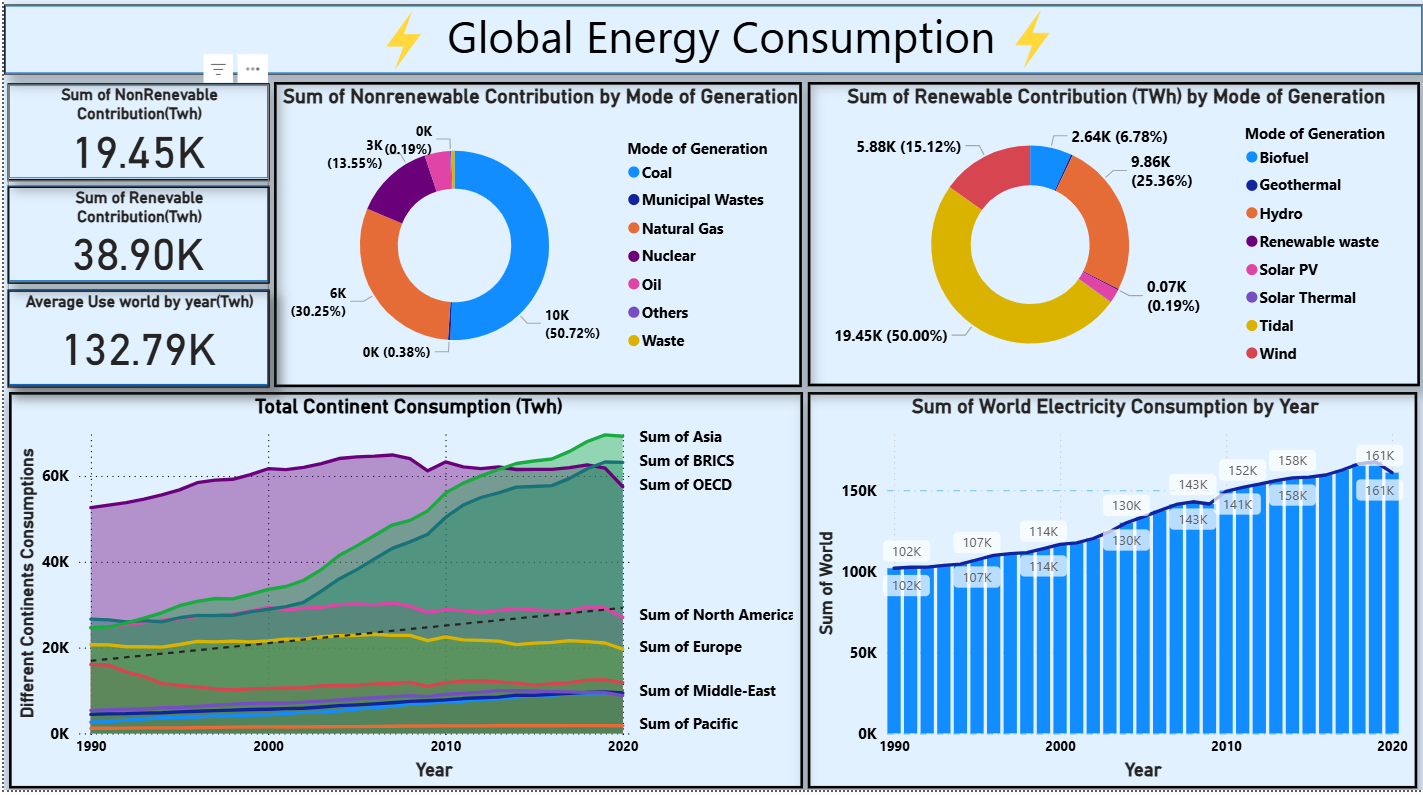

This screenshot's page, from the dashboard's own definition file:
{"tool":"powerbi","page":{"name":"Global Dashboard","canvas":[1280,720],"ordinal":0},"visuals":[{"type":"shape","box":[0,11.2,1280,63.4],"z":0},{"type":"group","id":"g1","title":"Group 5","box":[3.1,82,236,88.9],"z":0,"group":"g4"},{"type":"shape","box":[3.1,82,236,87],"z":0,"group":"g1"},{"type":"shape","box":[3.1,174.7,236,87.4],"z":0,"group":"g2"},{"type":"shape","box":[3.1,268.2,236,87.4],"z":0,"group":"g3"},{"type":"card","title":"Sum of NonRenevable Contribution(Twh)","fields":{"Values":["nonRenewablesTotalPowerGeneration.sum of Contribution"]},"box":[3.1,83.5,236,87.4],"z":1000,"group":"g1"},{"type":"group","id":"g2","title":"Group 6","box":[3.1,174.7,236,89.1],"z":1000,"group":"g4"},{"type":"card","title":"Sum of Renevable Contribution(Twh)","fields":{"Values":["renewablesTotalPowerGeneration.sum of renewable contribution"]},"box":[3.1,176.3,235.9,87.5],"z":1000,"group":"g2"},{"type":"card","title":"Average Use world by year(Twh)","fields":{"Values":["Continent_Consumption_TWh.Average consumption of world"]},"box":[3.2,269.8,235.9,87.5],"z":1000,"group":"g3"},{"type":"lineChart","title":"Total Continent Consumption (Twh)","fields":{"Category":["Continent_Consumption_TWh.Year"],"Y":["Sum(Continent_Consumption_TWh.Middle-East)","Sum(Continent_Consumption_TWh.Africa)","Sum(Continent_Consumption_TWh.Pacific)","Sum(Continent_Consumption_TWh.OECD)","Sum(Continent_Consumption_TWh.North America)","Sum(Continent_Consumption_TWh.Latin America)","Sum(Continent_Consumption_TWh.Europe)","Sum(Continent_Consumption_TWh.CIS)","Sum(Continent_Consumption_TWh.BRICS)","Sum(Continent_Consumption_TWh.Asia)"]},"box":[4.3,360.7,715.6,357.8],"z":1000},{"type":"group","id":"g3","title":"Group 7","box":[3.1,268.2,236,89.1],"z":2000,"group":"g4"},{"type":"lineStackedColumnComboChart","title":"Sum of World Electricity Consumption  by Year","fields":{"Category":["Continent_Consumption_TWh.Year"],"Y":["Sum(Continent_Consumption_TWh.World)"],"Y2":["Sum(Continent_Consumption_TWh.World)"]},"box":[724.3,360.7,549.7,357.8],"z":3000},{"type":"donutChart","title":"Sum of  Nonrenewable Contribution  by Mode of Generation","fields":{"Y":["Sum(nonRenewablesTotalPowerGeneration.Contribution (TWh))"],"Category":["nonRenewablesTotalPowerGeneration.Mode of Generation"]},"box":[243.8,80.8,476.1,275.6],"z":4000},{"type":"donutChart","title":"Sum of  Renewable Contribution (TWh) by Mode of Generation","fields":{"Y":["Sum(renewablesTotalPowerGeneration.Contribution (TWh))"],"Category":["renewablesTotalPowerGeneration.Mode of Generation"]},"box":[724.9,81,551.7,274],"z":5000},{"type":"group","id":"g4","title":"Group 8","box":[3.1,82,236,275.3],"z":7000},{"type":"image","box":[328.8,12.5,62.5,62.5],"z":8000},{"type":"image","box":[896.2,11.2,62.5,62.5],"z":9000}]}

Visuals, with their boxes in screenshot pixels (x1, y1, x2, y2), scaled from the page's 1280x720 canvas onto the 1423x795 screenshot:
shape: region(0, 12, 1422, 82)
"Group 5" group: region(3, 91, 266, 189)
shape: region(3, 91, 266, 187)
shape: region(3, 193, 266, 289)
shape: region(3, 296, 266, 393)
"Sum of NonRenevable Contribution(Twh)" card: region(3, 92, 266, 189)
"Group 6" group: region(3, 193, 266, 291)
"Sum of Renevable Contribution(Twh)" card: region(3, 195, 266, 291)
"Average Use world by year(Twh)" card: region(4, 298, 266, 395)
"Total Continent Consumption (Twh)" lineChart: region(5, 398, 800, 793)
"Group 7" group: region(3, 296, 266, 395)
"Sum of World Electricity Consumption  by Year" lineStackedColumnComboChart: region(805, 398, 1416, 793)
"Sum of  Nonrenewable Contribution  by Mode of Generation" donutChart: region(271, 89, 800, 394)
"Sum of  Renewable Contribution (TWh) by Mode of Generation" donutChart: region(806, 89, 1419, 392)
"Group 8" group: region(3, 91, 266, 395)
image: region(366, 14, 435, 83)
image: region(996, 12, 1066, 81)
